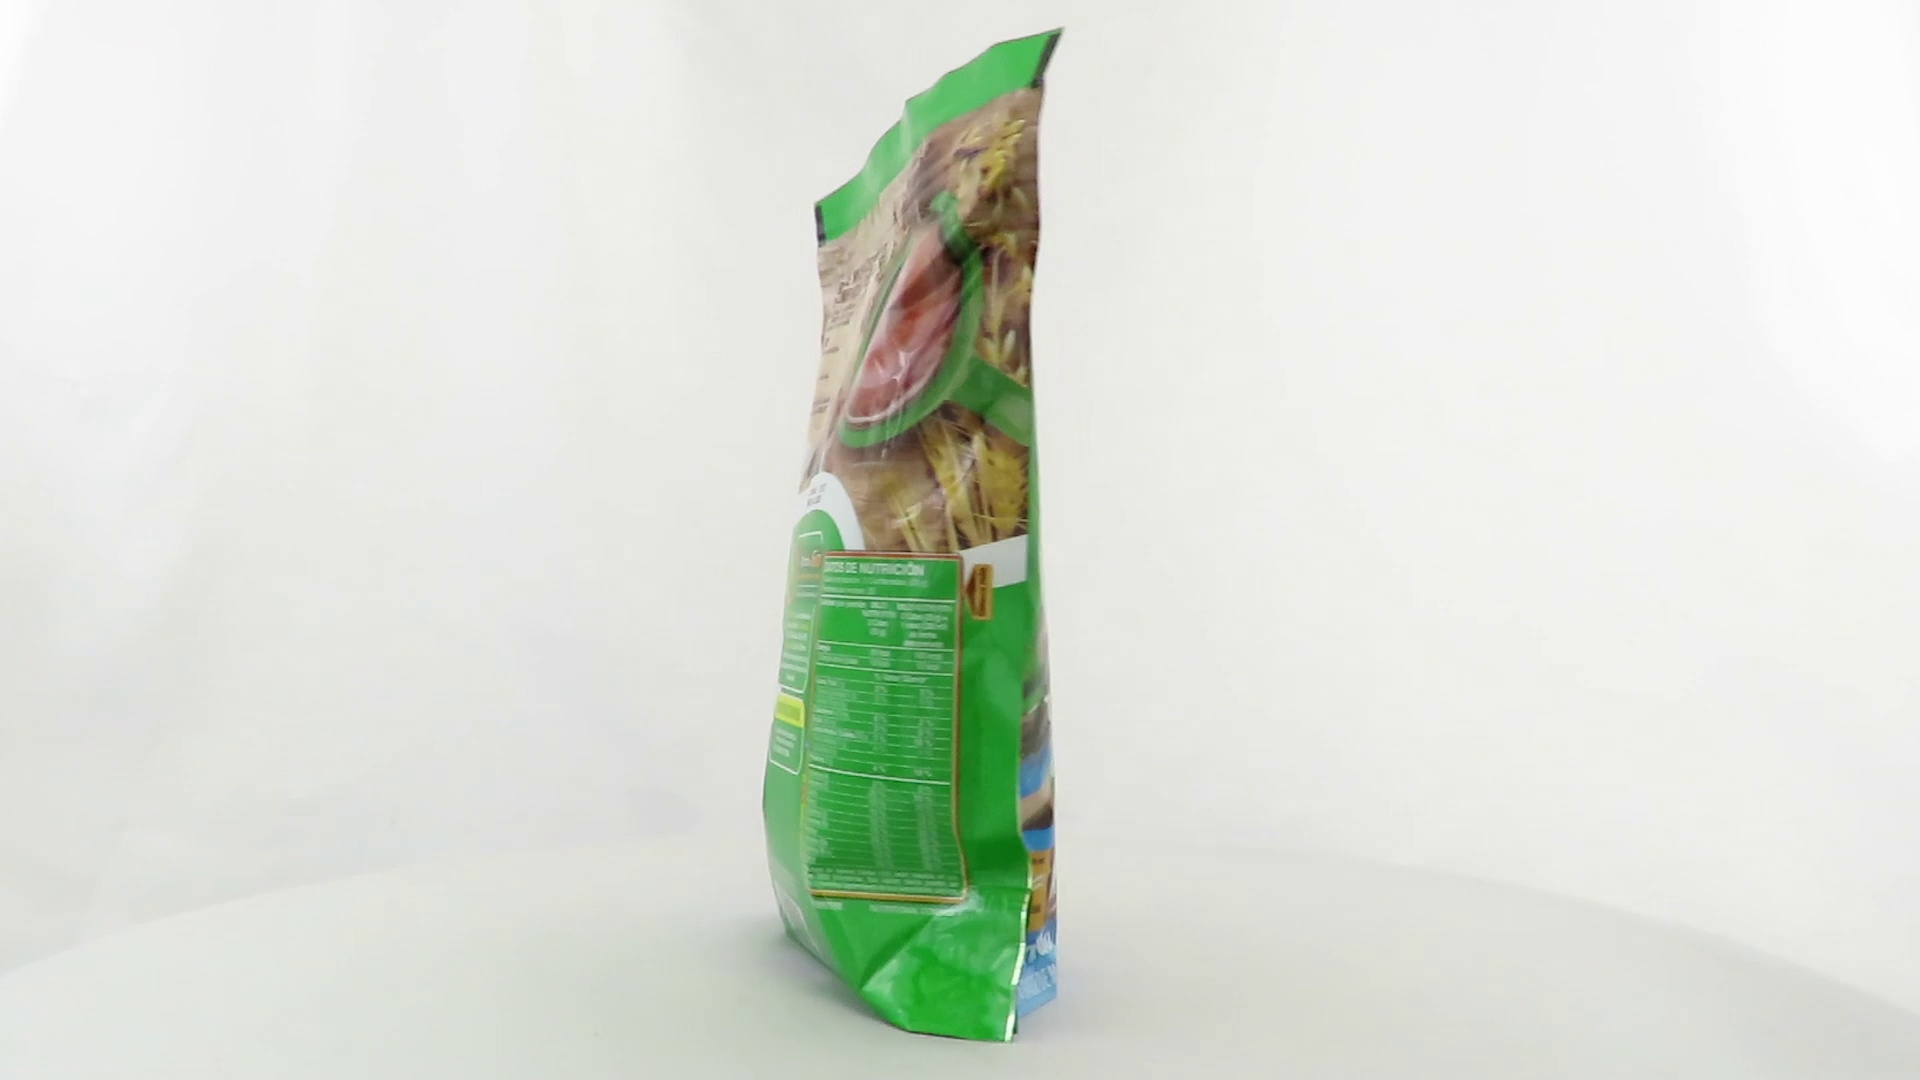COL0170205DYP50000: (757, 21, 1071, 1006)
